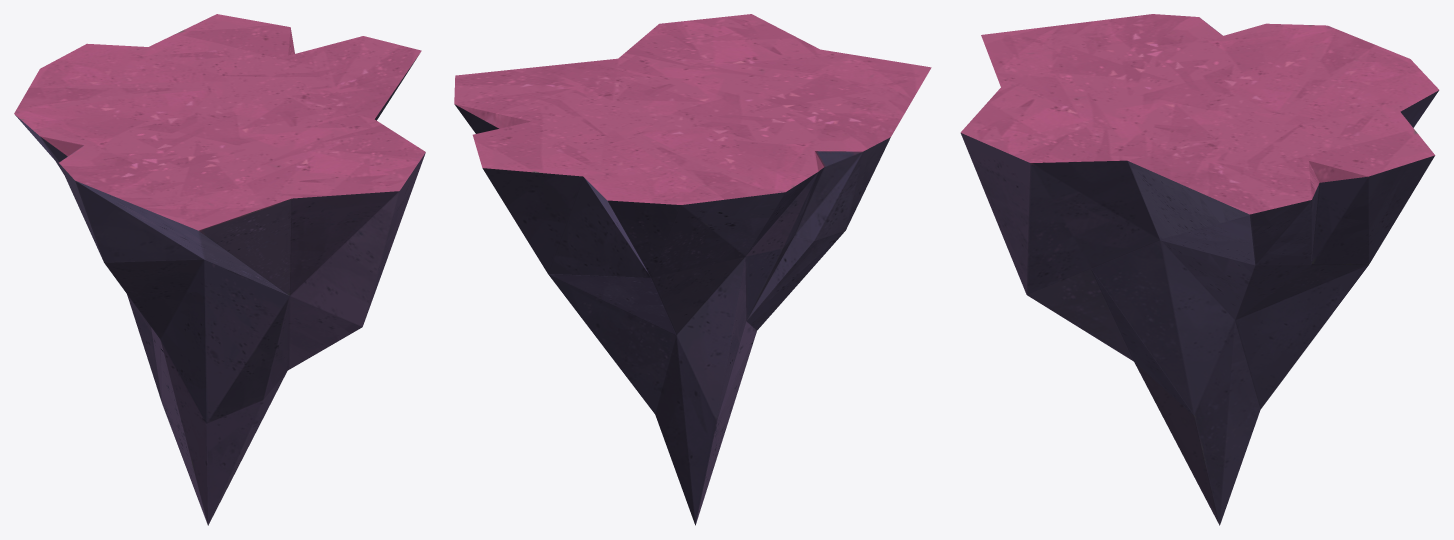
File: floating_rock3.fbx
The picture shows the model from 3 angles, left to right: view 1: azimuth 30°, elevation 25°; view 2: azimuth 150°, elevation 25°; view 3: azimuth 270°, elevation 25°; orthographic projection. The views are drawn at different scales.
Parts seen in each view (by area): view 1: floating_rock3; view 2: floating_rock3; view 3: floating_rock3.
Boxes of the visible parts, x1,y1,x2,y2 form: floating_rock3: [14, 14, 425, 525]; floating_rock3: [454, 14, 931, 525]; floating_rock3: [960, 14, 1439, 525].
Size of the model in its own units: 0.1376 by 0.1368 by 0.1388.
